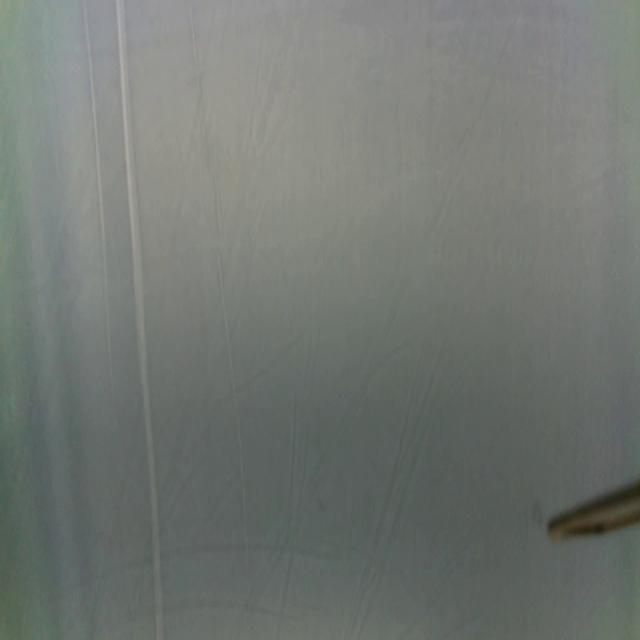crease: (116, 0, 165, 639), (84, 0, 113, 395), (216, 250, 248, 532), (187, 0, 207, 148), (212, 131, 226, 238)
